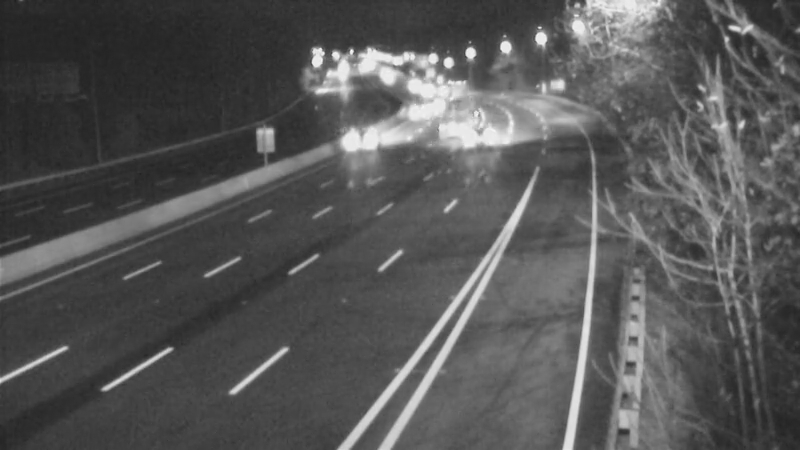vehicle: (402, 66, 452, 116), (433, 65, 483, 115), (429, 92, 479, 142), (398, 81, 448, 131), (451, 115, 501, 165), (341, 111, 391, 161)
